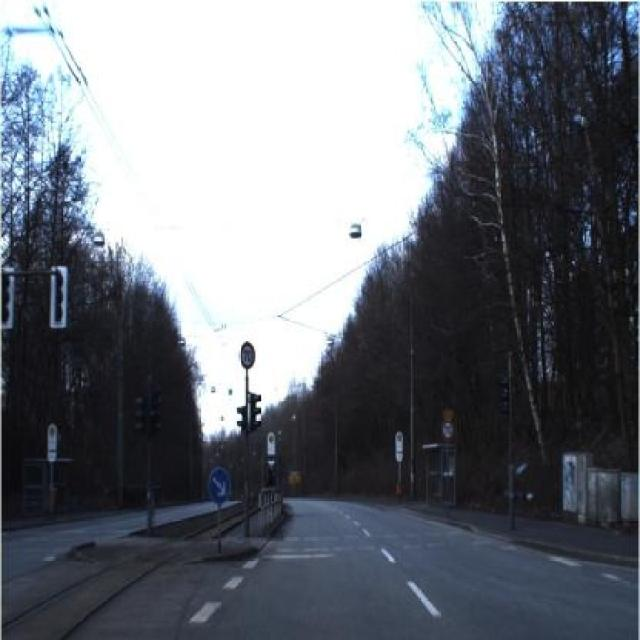forb_speed_over_70: (239, 343, 256, 372), (440, 419, 455, 443)
